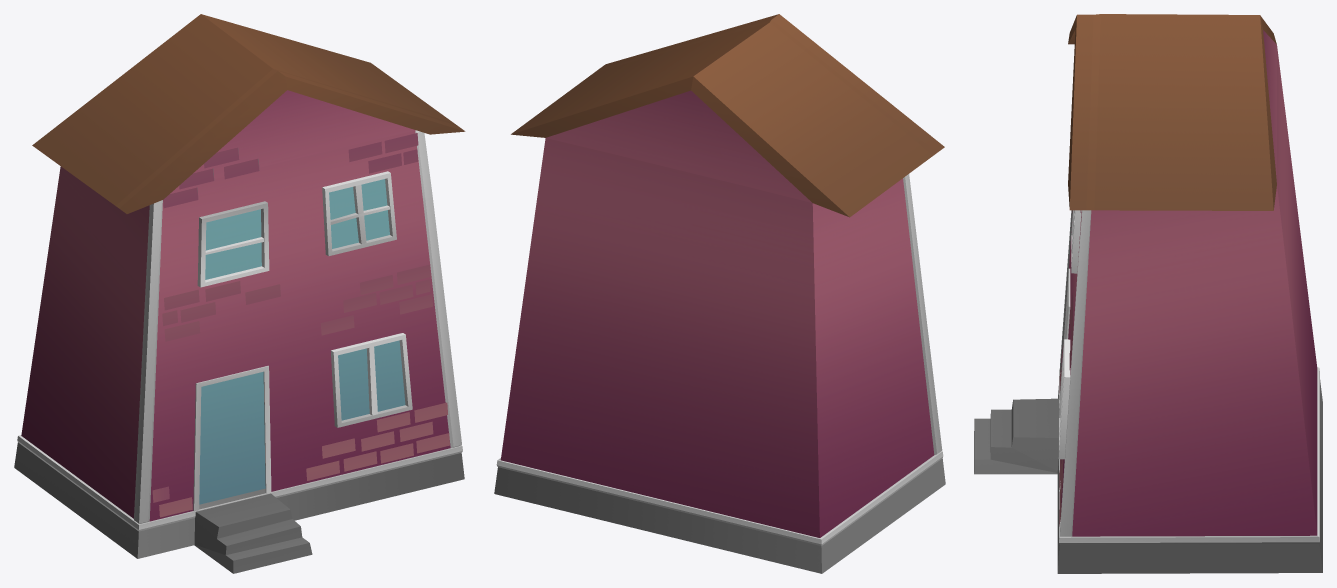
Rendered from OBJ_House.glb.
3 views of the same model, side by side, from view 1: azimuth 30°, elevation 25°; view 2: azimuth 150°, elevation 25°; view 3: azimuth 270°, elevation 25° (orthographic). The views are drawn at different scales.
Visible parts, largest first — view 1: OBJ_House; view 2: OBJ_House; view 3: OBJ_House.
Boxes of the visible parts, left/top/right/bottom form: OBJ_House: left=14, top=14, right=465, bottom=573; OBJ_House: left=494, top=14, right=945, bottom=573; OBJ_House: left=974, top=14, right=1322, bottom=573.
Bounding box in the file's own units: 84.89 × 105 × 70.45.
Materials: 1 (1 with a texture image).
